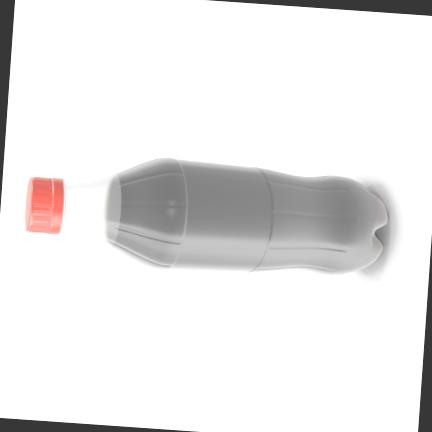container: (60, 158, 386, 273)
fluid: (111, 156, 389, 274)
fluid-surface: (105, 174, 121, 244)
